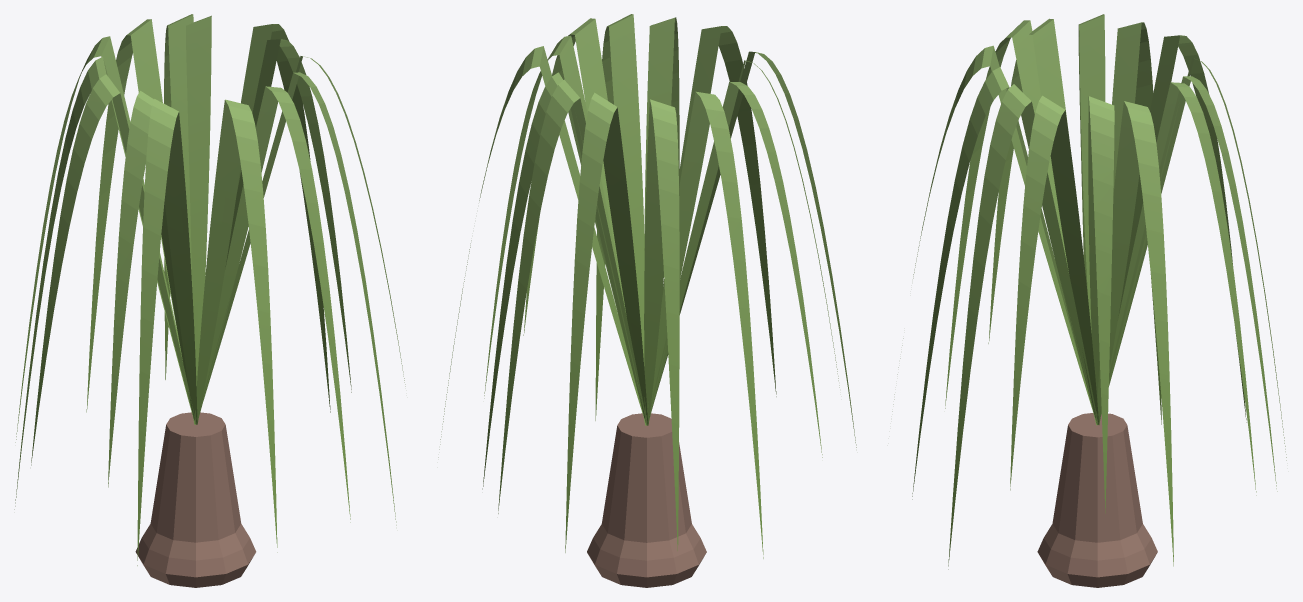
The model's file is Willow_Tree.glb.
3 renders of one model, left to right at view 1: azimuth 30°, elevation 25°; view 2: azimuth 150°, elevation 25°; view 3: azimuth 270°, elevation 25°, orthographic.
Parts seen in each view (by area): view 1: Willow_Tree_Branches, Willow_Tree_Trunk; view 2: Willow_Tree_Branches, Willow_Tree_Trunk; view 3: Willow_Tree_Branches, Willow_Tree_Trunk.
Part boxes in pixels (box(x1,y1,x2,y2)): Willow_Tree_Branches: box(14, 14, 405, 565); Willow_Tree_Trunk: box(135, 412, 256, 587); Willow_Tree_Branches: box(438, 14, 856, 558); Willow_Tree_Trunk: box(587, 413, 706, 587); Willow_Tree_Branches: box(892, 14, 1286, 569); Willow_Tree_Trunk: box(1037, 413, 1157, 587).
Bounding box in the file's own units: 1.06 × 1.5 × 1.07.
